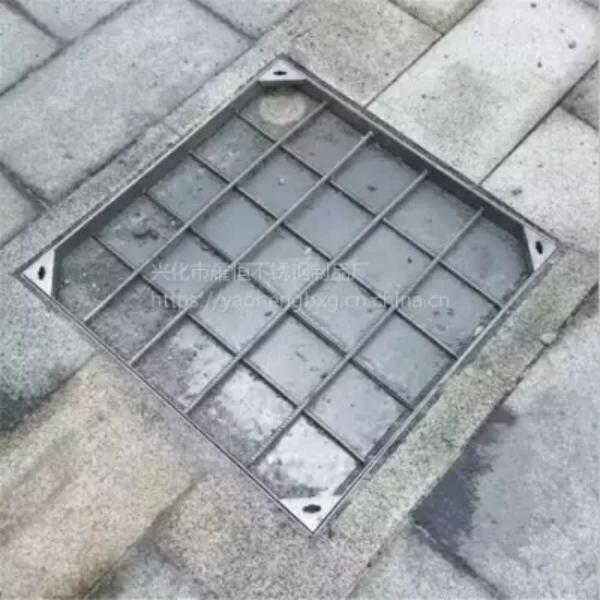wellcover: (17, 57, 573, 535)
